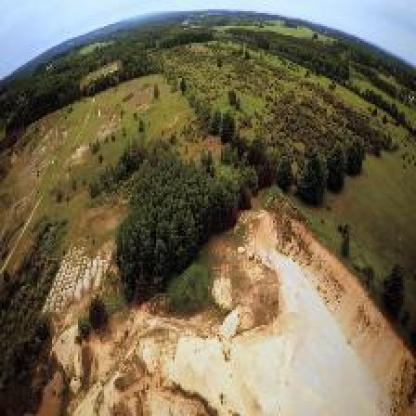other: (191, 225, 398, 405)
